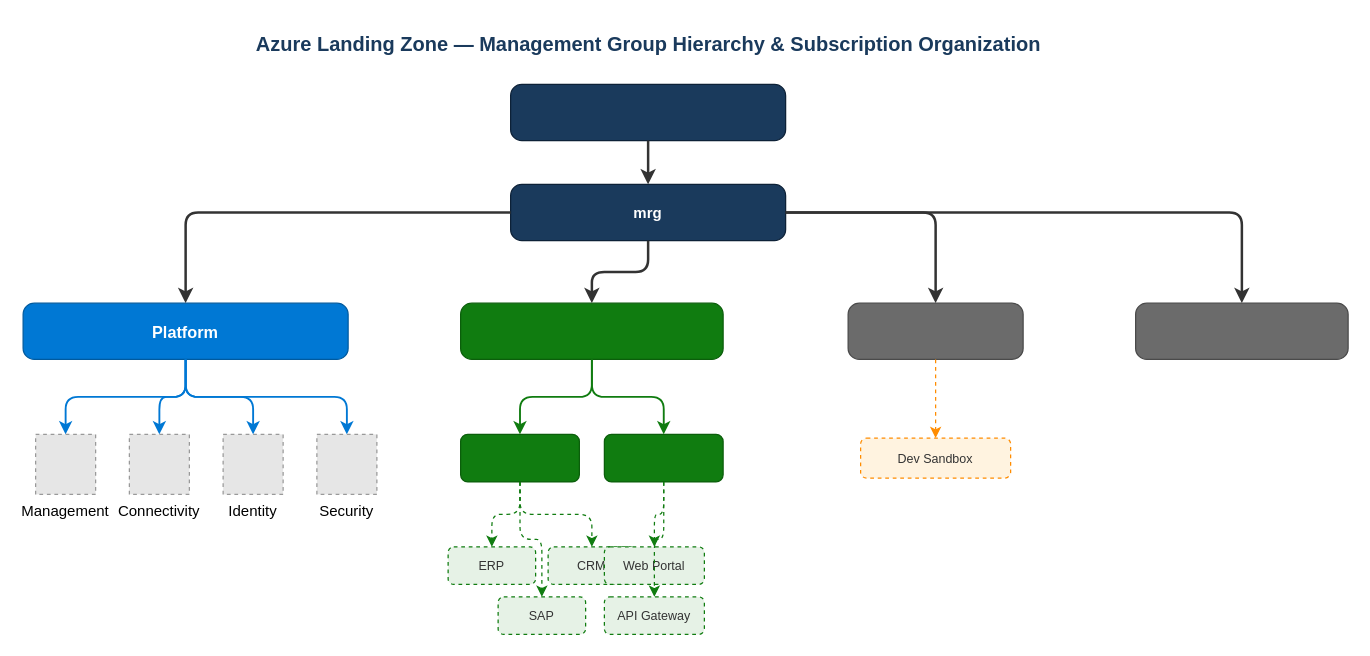
Image size: 1370x656. Some labels were removed from this diagram. Grey dashed boxes stand in for pictures. Here are the shapes that lost their labels. From the top down, the centre of each, then its label:
the point at 647,112: Tenant Root Group
the point at 591,330: Landing Zones
the point at 935,330: Sandbox
the point at 1241,330: Decommissioned
the point at 519,457: Corp
the point at 663,457: Online
